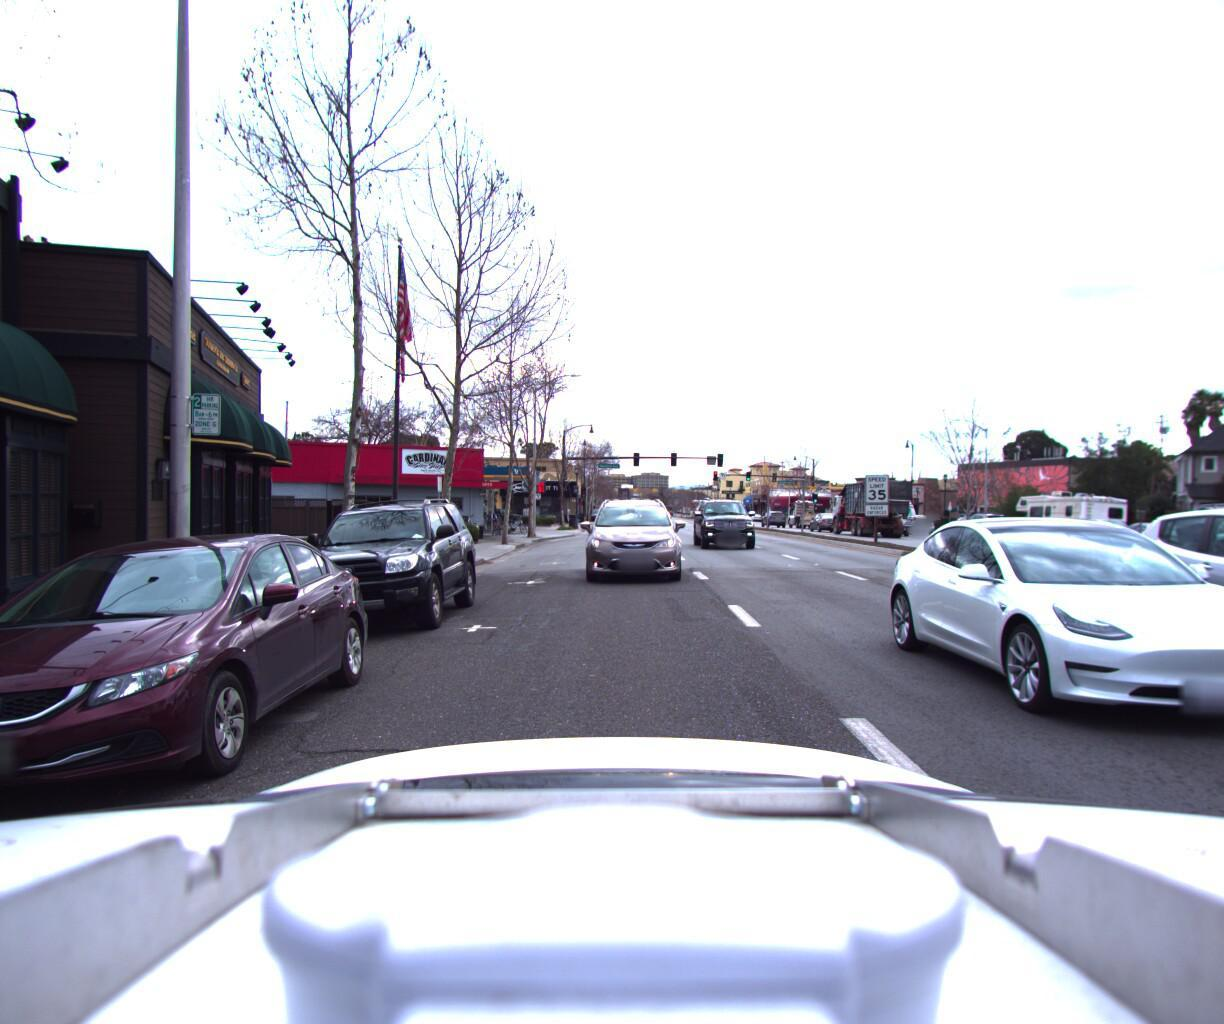bicycle: (500, 510, 528, 529)
car: (0, 517, 391, 866), (924, 507, 1224, 816), (262, 489, 488, 653), (573, 486, 678, 587), (1196, 493, 1224, 739), (694, 490, 767, 551), (1044, 514, 1141, 550), (1099, 517, 1195, 552), (859, 496, 921, 534), (950, 507, 1013, 539), (893, 511, 936, 532), (760, 506, 788, 524)
other_vehicle: (1008, 482, 1133, 547)
truck: (823, 470, 920, 535), (1167, 497, 1224, 562), (779, 493, 865, 530)
